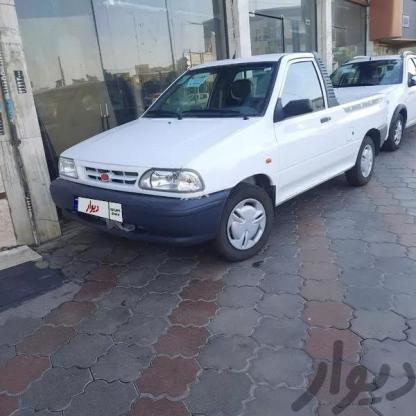Car: (54, 28, 390, 272), (337, 52, 416, 138)
